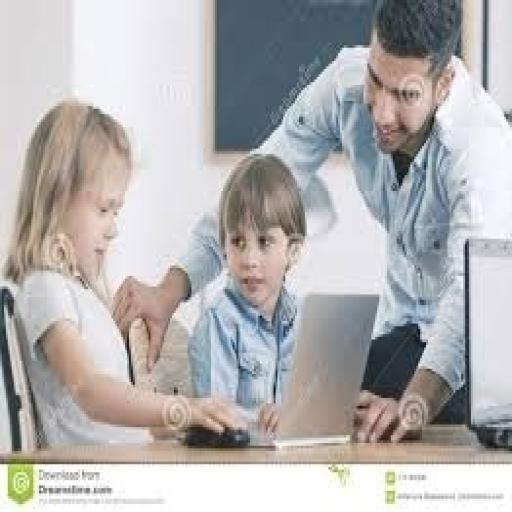using_laptop: (164, 250, 392, 488)
